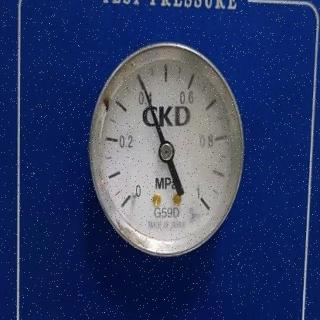gauge: (72, 2, 254, 297), (117, 182, 145, 214), (192, 190, 215, 221), (157, 141, 175, 163), (135, 72, 145, 84)
